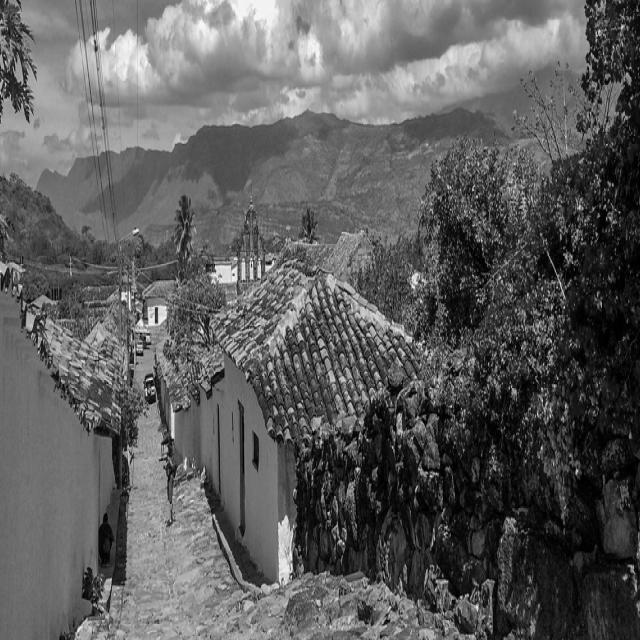Fachada: (212, 261, 421, 581), (155, 323, 225, 492), (142, 280, 175, 328)
